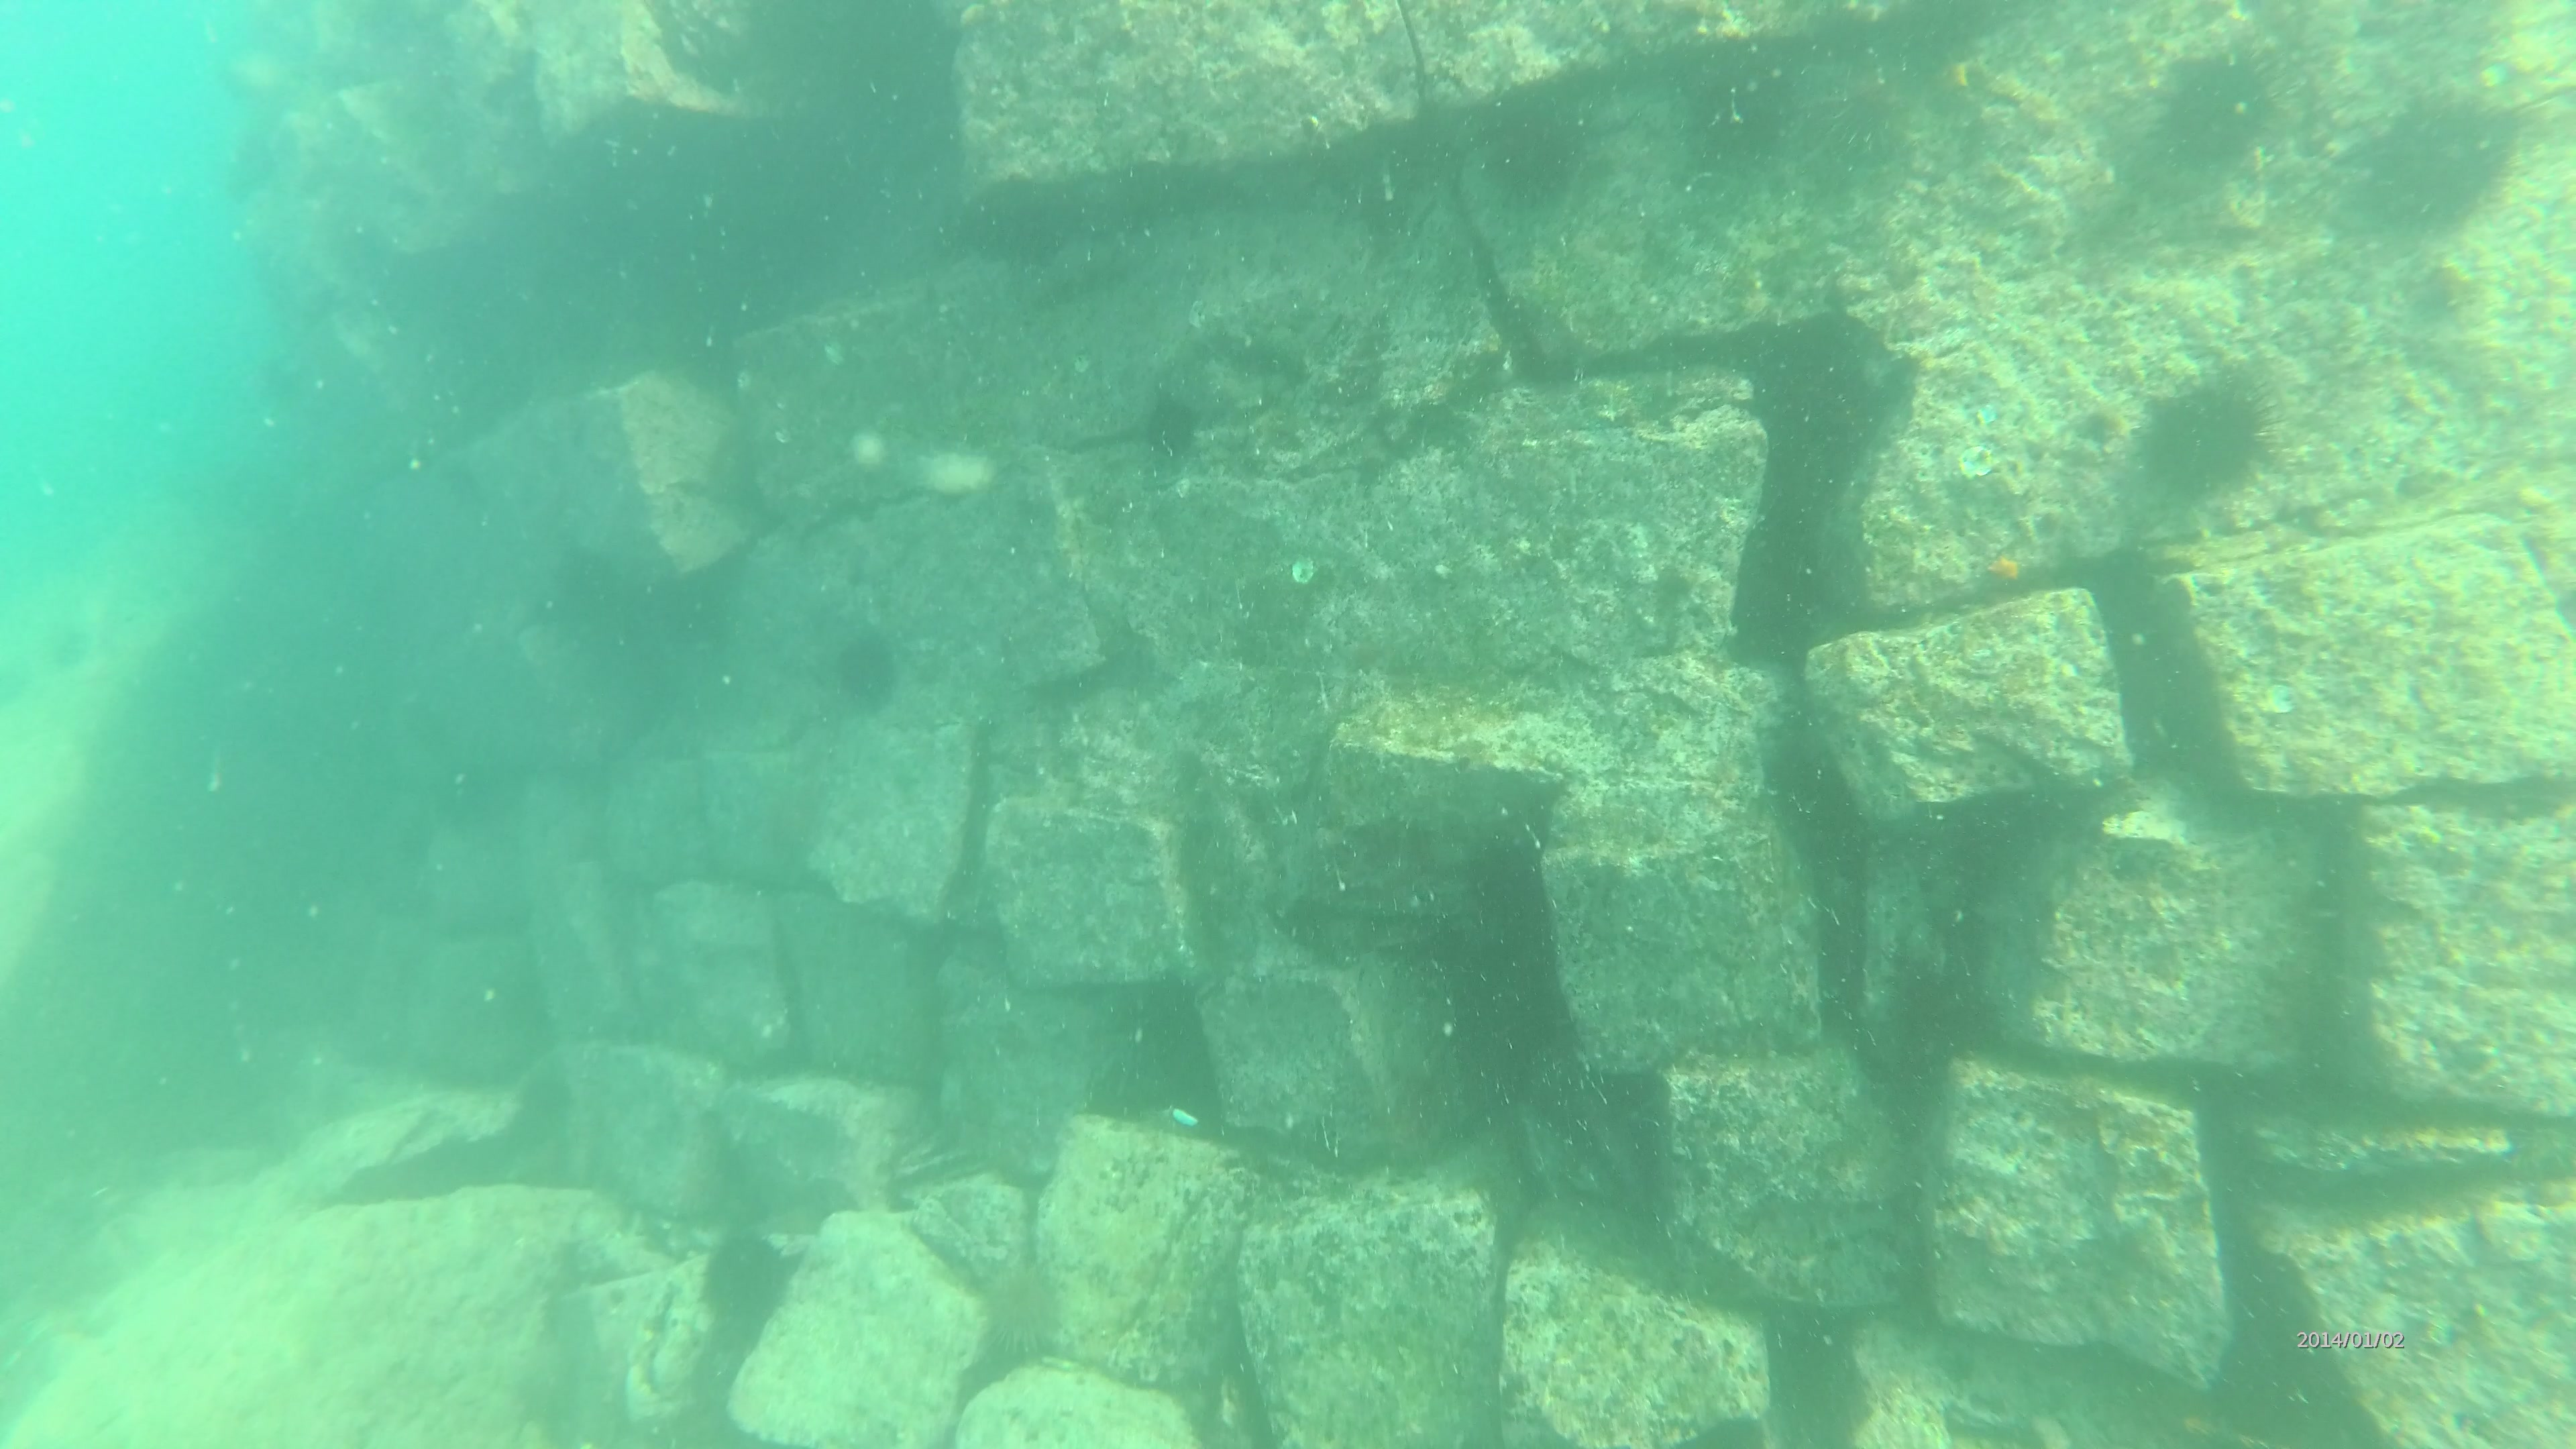echinus: (2364, 80, 2493, 232), (2130, 379, 2263, 495), (2148, 44, 2272, 161), (1665, 74, 1773, 161), (1476, 111, 1569, 211), (686, 1238, 793, 1316), (1138, 393, 1214, 478), (830, 637, 901, 713)
